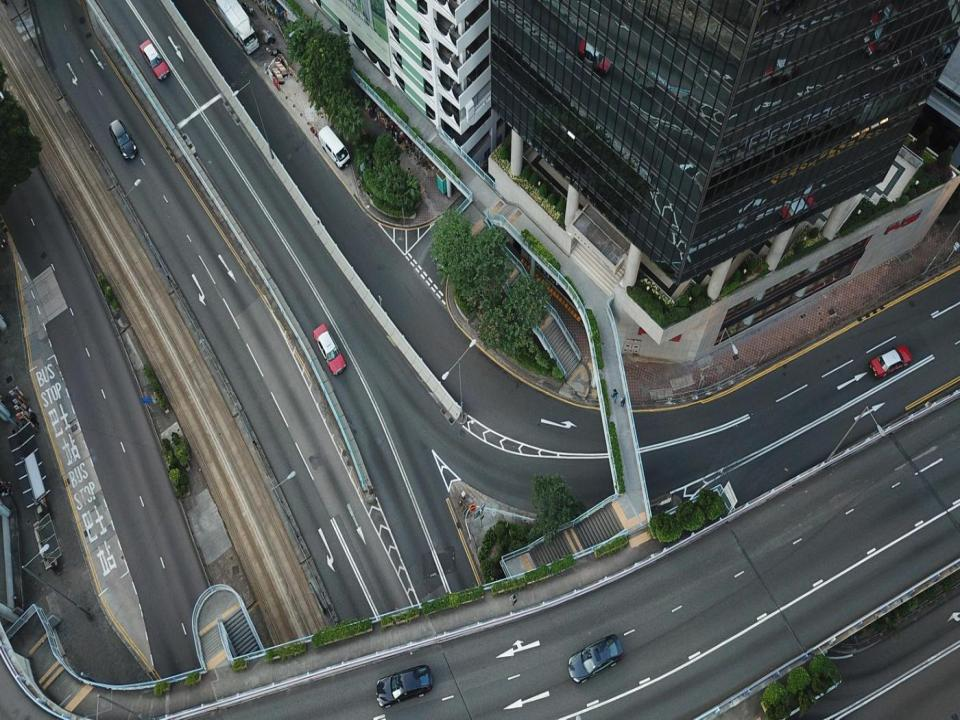car: (568, 632, 624, 686), (374, 666, 434, 711), (311, 322, 346, 376), (869, 344, 914, 381), (106, 117, 139, 163), (140, 38, 172, 82)
truck: (216, 3, 259, 52)
van: (318, 126, 349, 170)
